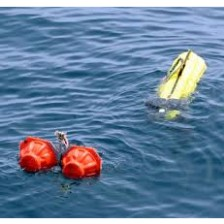buoy: (60, 146, 103, 184), (19, 138, 57, 174)
